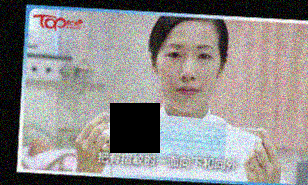without_mask: (154, 39, 220, 113)
